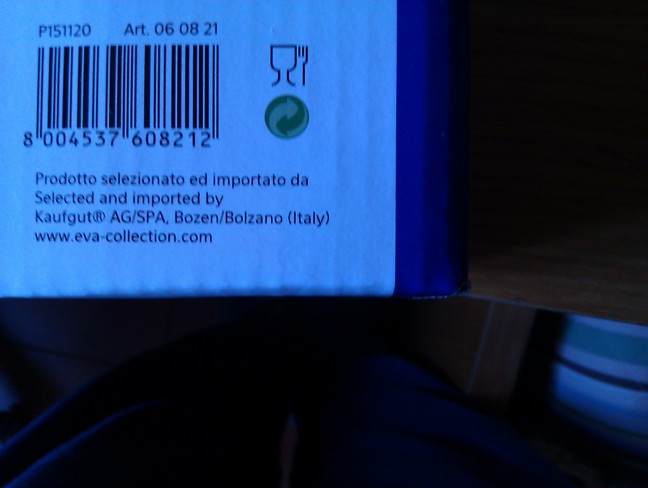barcode: (10, 42, 236, 158)
